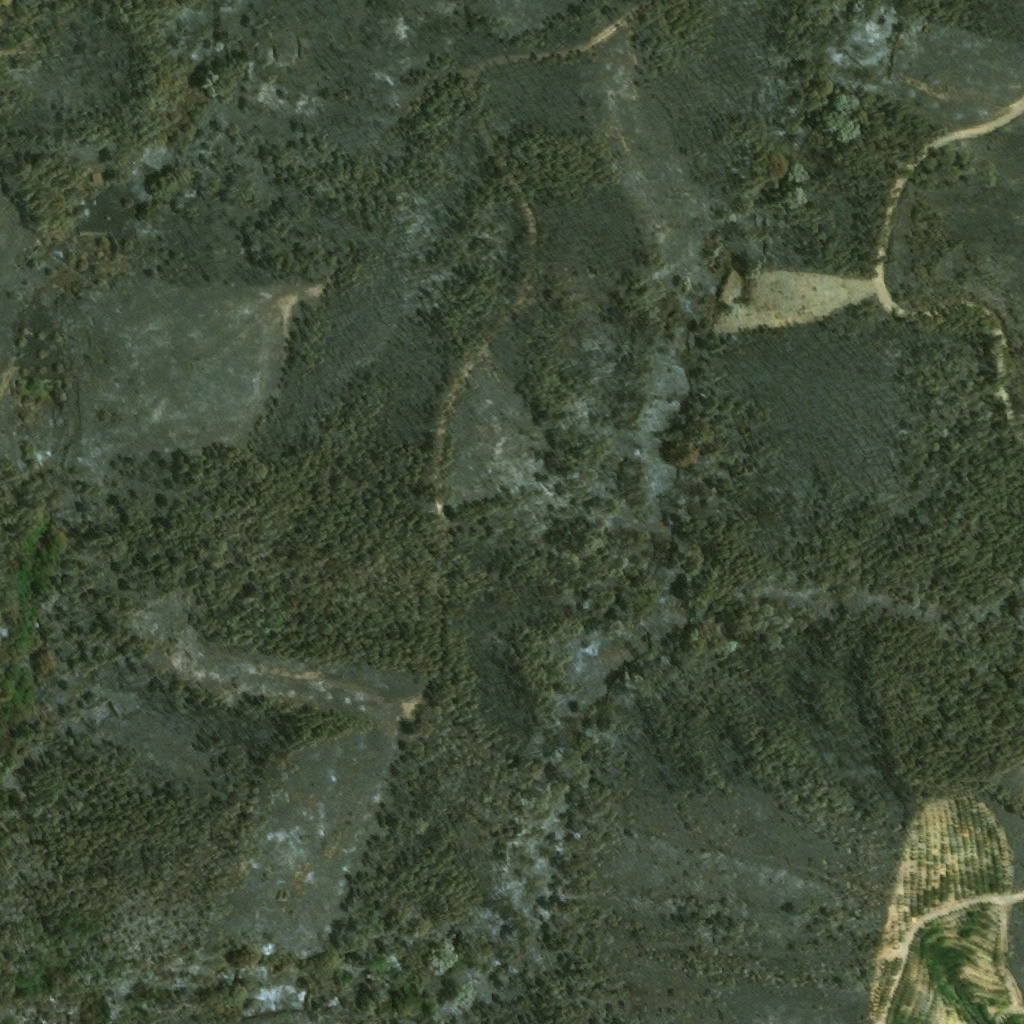0 no-damage: (92, 172, 105, 185)
